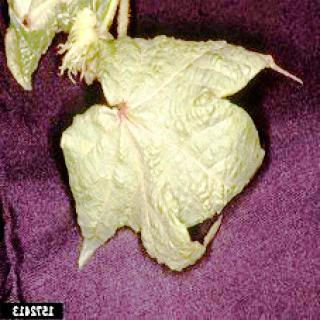curl: (54, 33, 284, 267)
